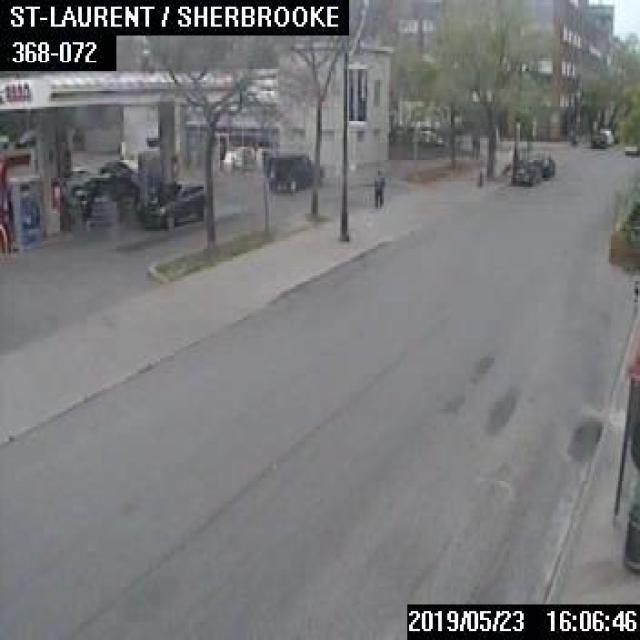pedestrian: (371, 167, 385, 209)
vehicle: (138, 184, 202, 228), (266, 152, 322, 192), (509, 161, 539, 184), (529, 151, 553, 176), (588, 131, 605, 145)
